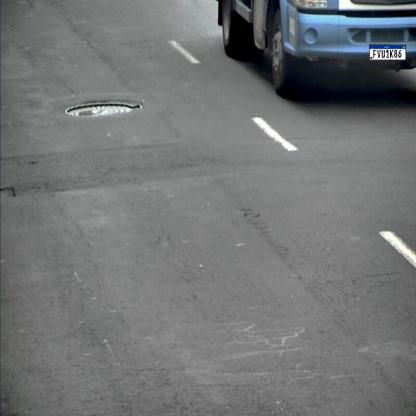PlacaM: (369, 44, 406, 60)
